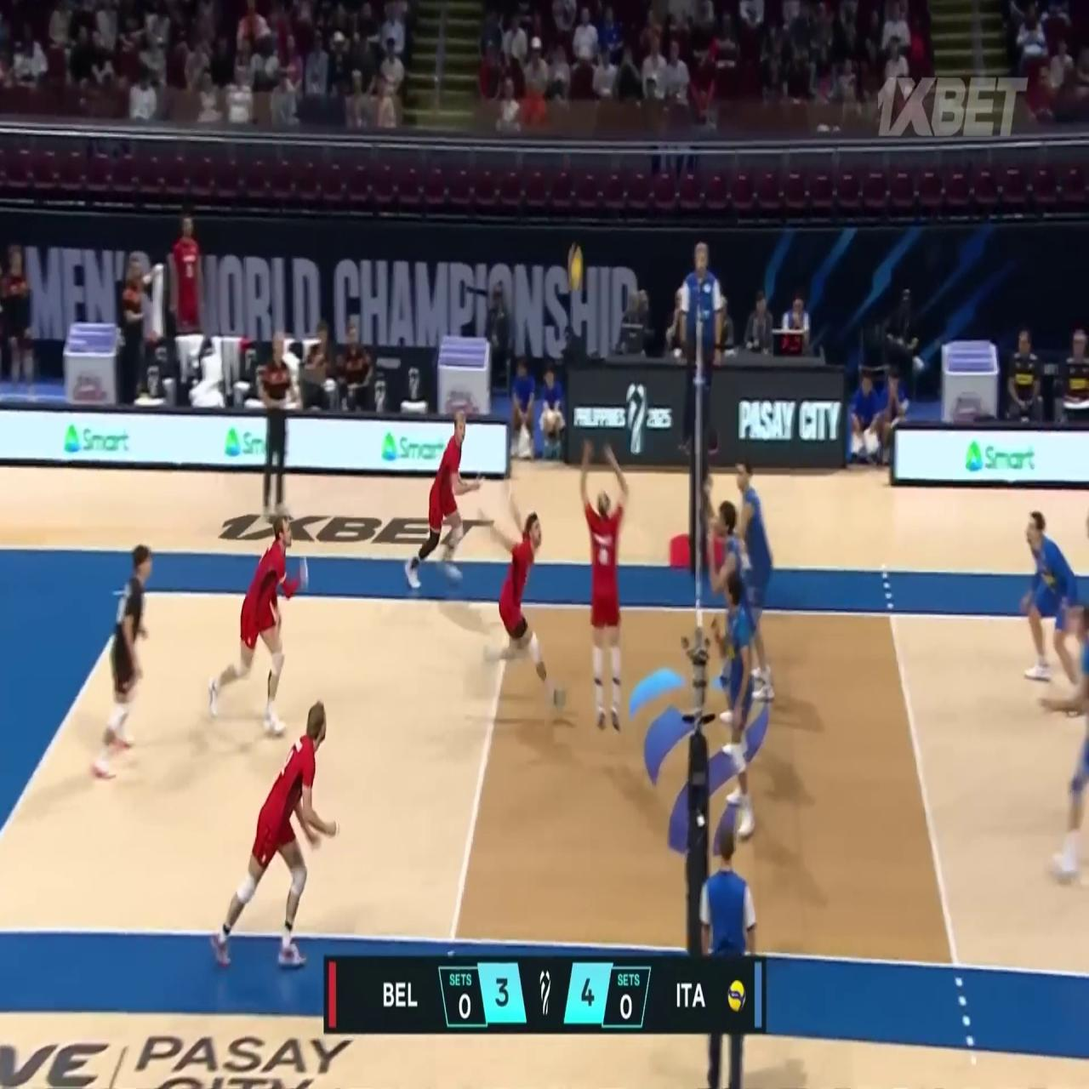ball: (566, 246, 583, 294)
